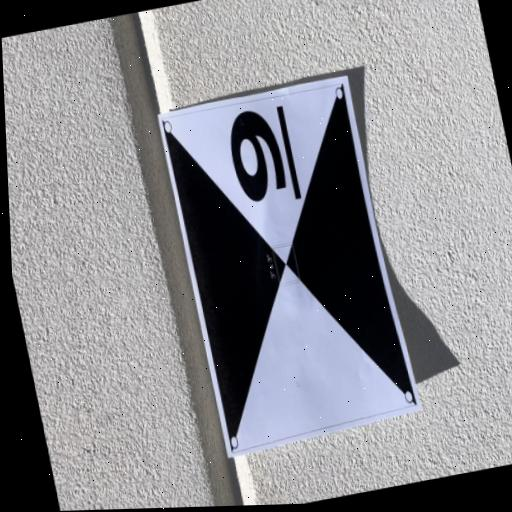target9: (157, 74, 421, 457)
